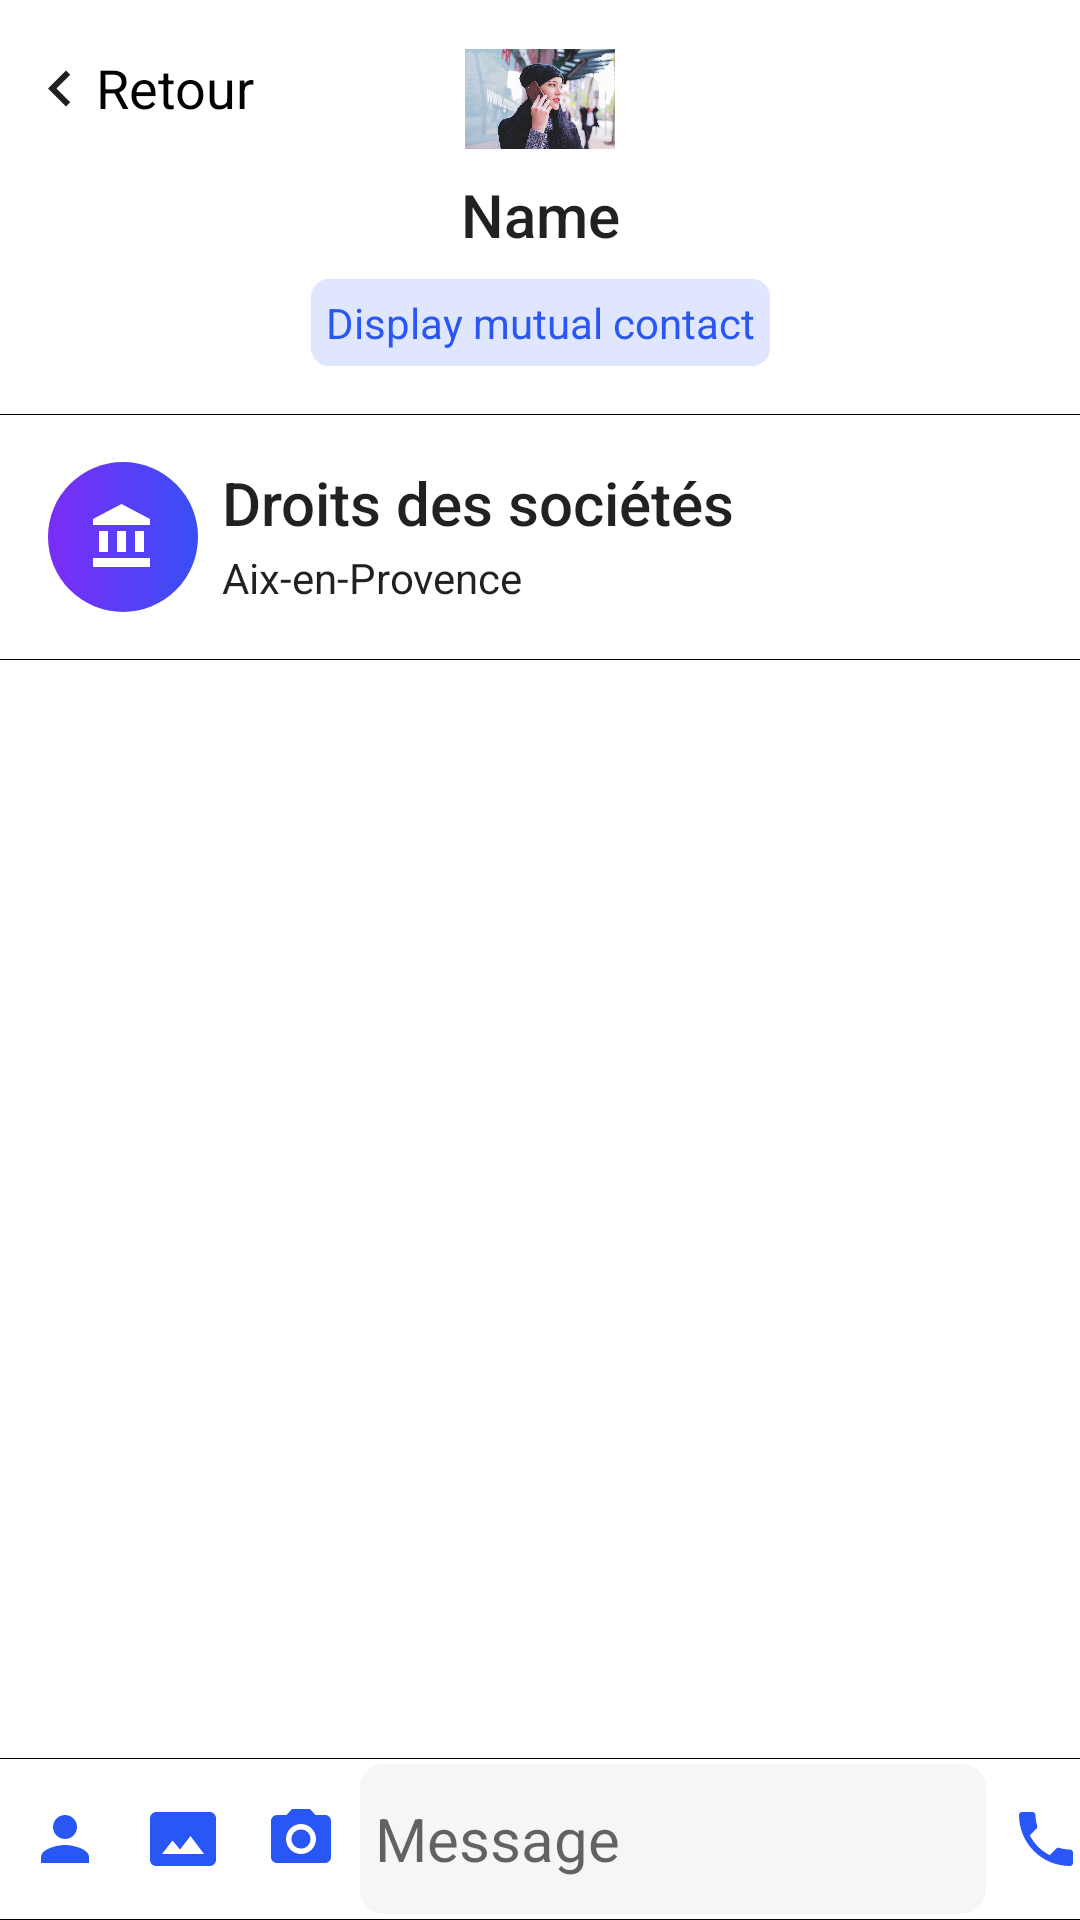

Locate icon controls on the screen. Image size 1080px×1920px, boxes as (x1, y1, x2, y2).
account balance: (48, 462, 198, 612)
keyboard arrow left: (48, 70, 70, 107)
person: (41, 1815, 89, 1863)
photo: (150, 1812, 216, 1866)
photo camera: (271, 1809, 331, 1863)
woman: (465, 49, 615, 149)
